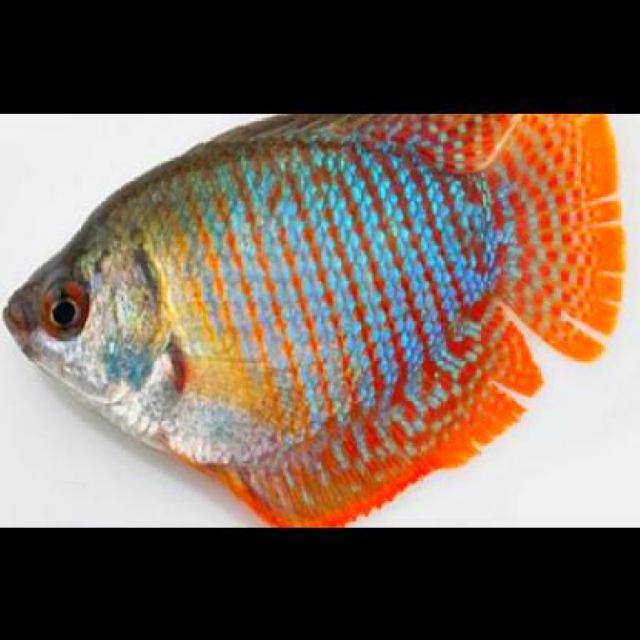Gourami: (2, 112, 626, 526)
